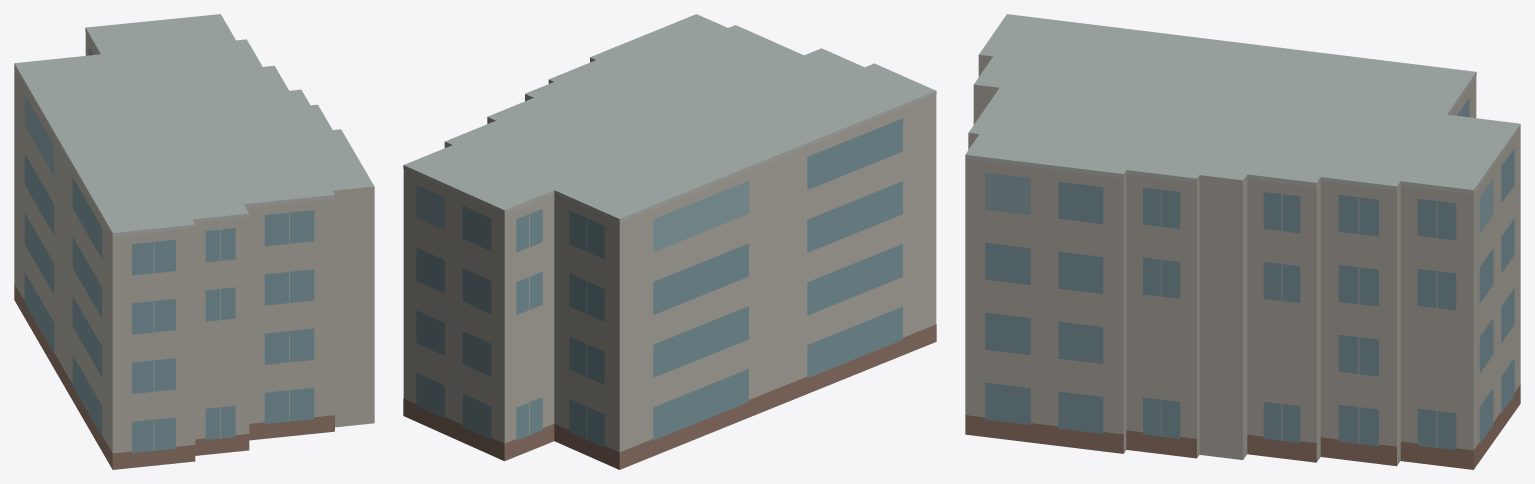
The model's file is survey-upis-32856475.glb.
3 views of the same model, side by side, from view 1: azimuth 30°, elevation 25°; view 2: azimuth 150°, elevation 25°; view 3: azimuth 270°, elevation 25° (orthographic). The views are drawn at different scales.
Visible parts, largest first — view 1: survey-upis-32856475.tmp; view 2: survey-upis-32856475.tmp; view 3: survey-upis-32856475.tmp.
Part boxes in pixels (x1,y1,x2,y2): survey-upis-32856475.tmp: [14, 14, 374, 469]; survey-upis-32856475.tmp: [403, 14, 936, 469]; survey-upis-32856475.tmp: [965, 14, 1520, 469].
Bounding box in the file's own units: 21.55 × 15.96 × 28.72.
